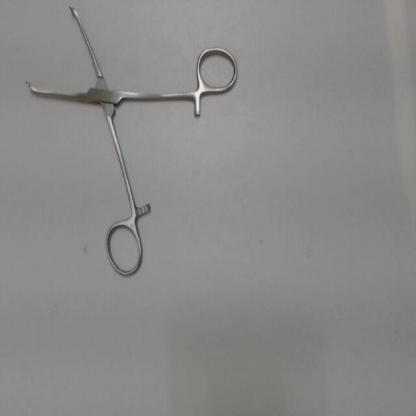Allis Tissue Forceps: (19, 0, 247, 283)
